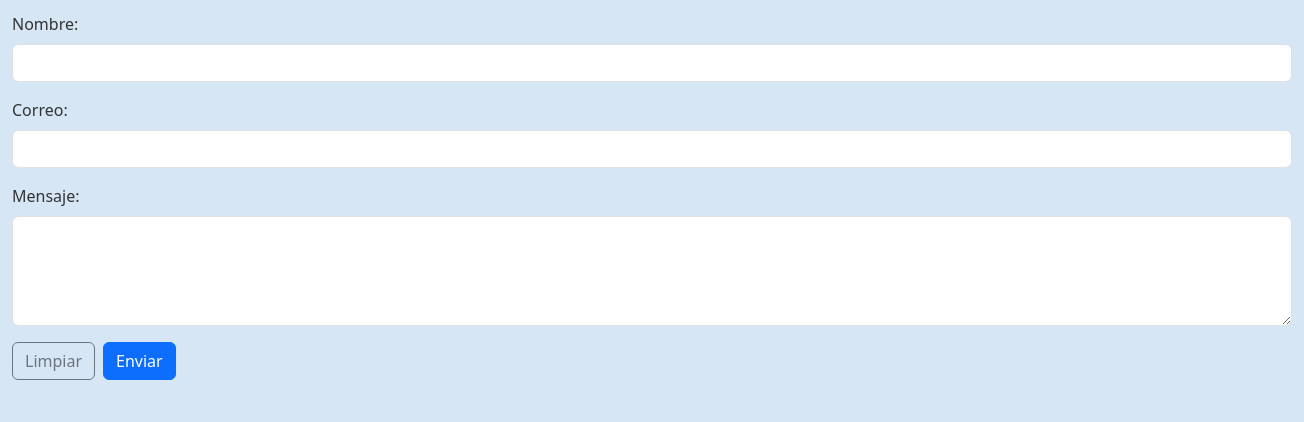
FormularioContacto › rechaza un correo con formato inválido
In the field labelled "Nombre:": (652,63) [12,44,1292,82], type "Ana"
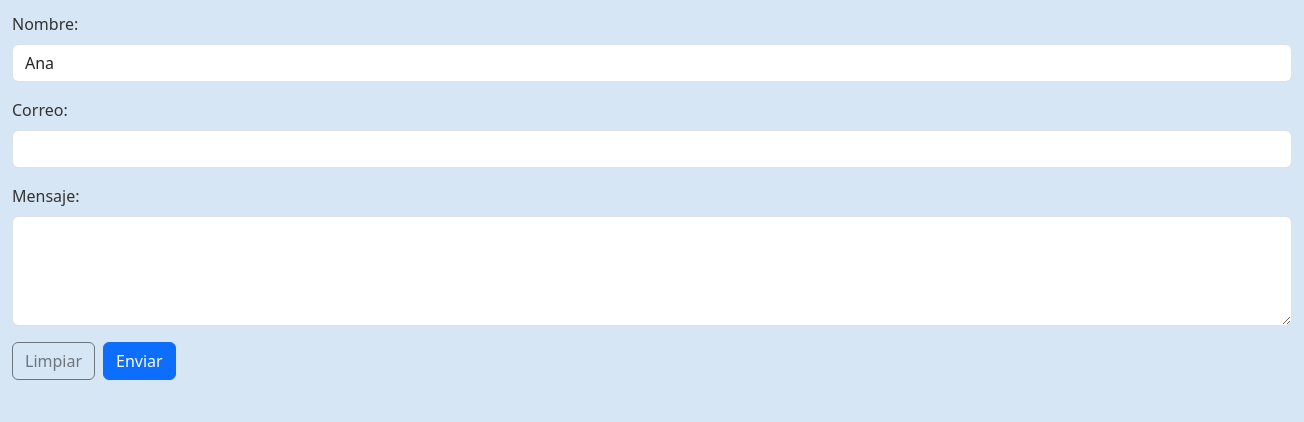
In the field labelled "Correo:": (652,149) [12,130,1292,168], type "ana-sin-arroba"
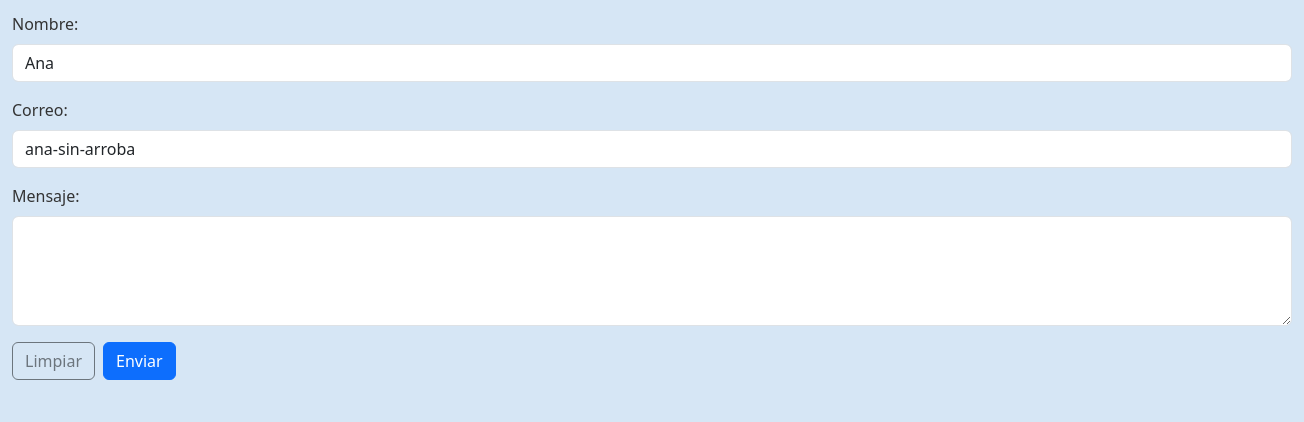
In the text box labelled "Mensaje:": (652,271) [12,216,1292,326], type "Hola"
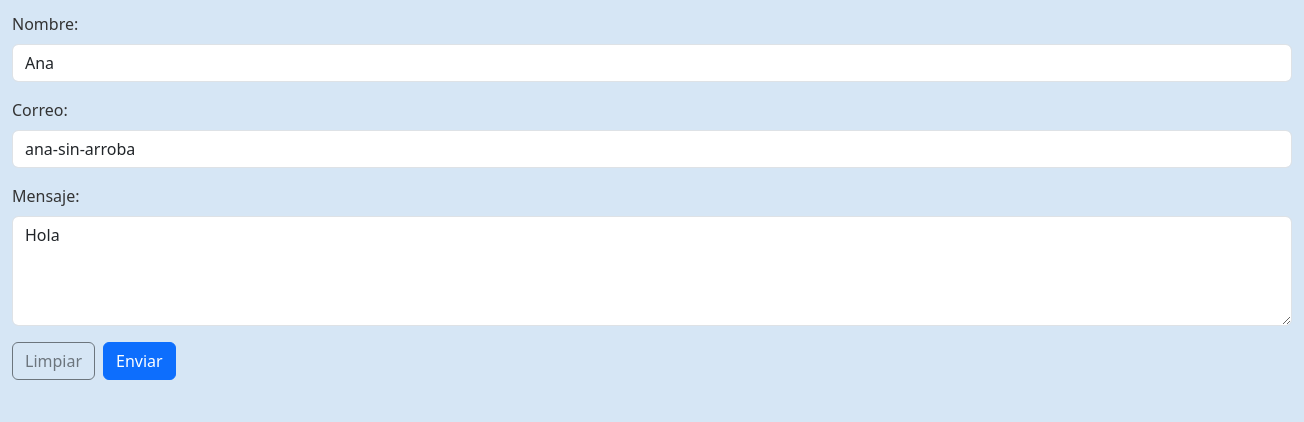
Click the button "Enviar": (139,361) [103,342,176,380]
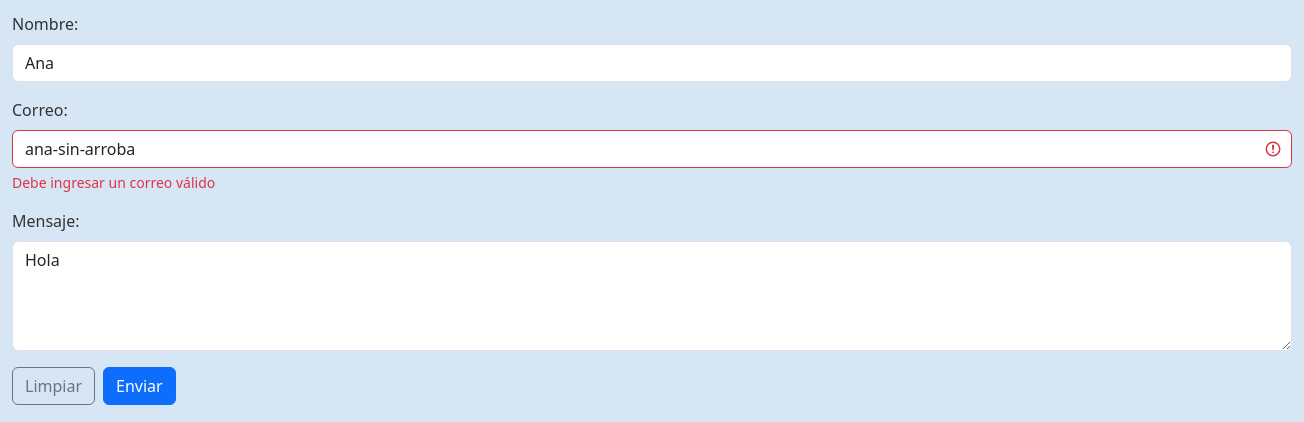
expect the text "Debe ingresar un correo válido" is shown: met, box [12,173,215,192]
